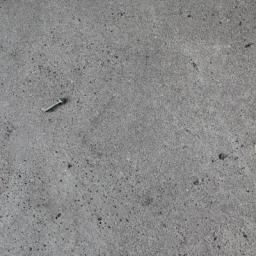FOD: (42, 95, 74, 117)
